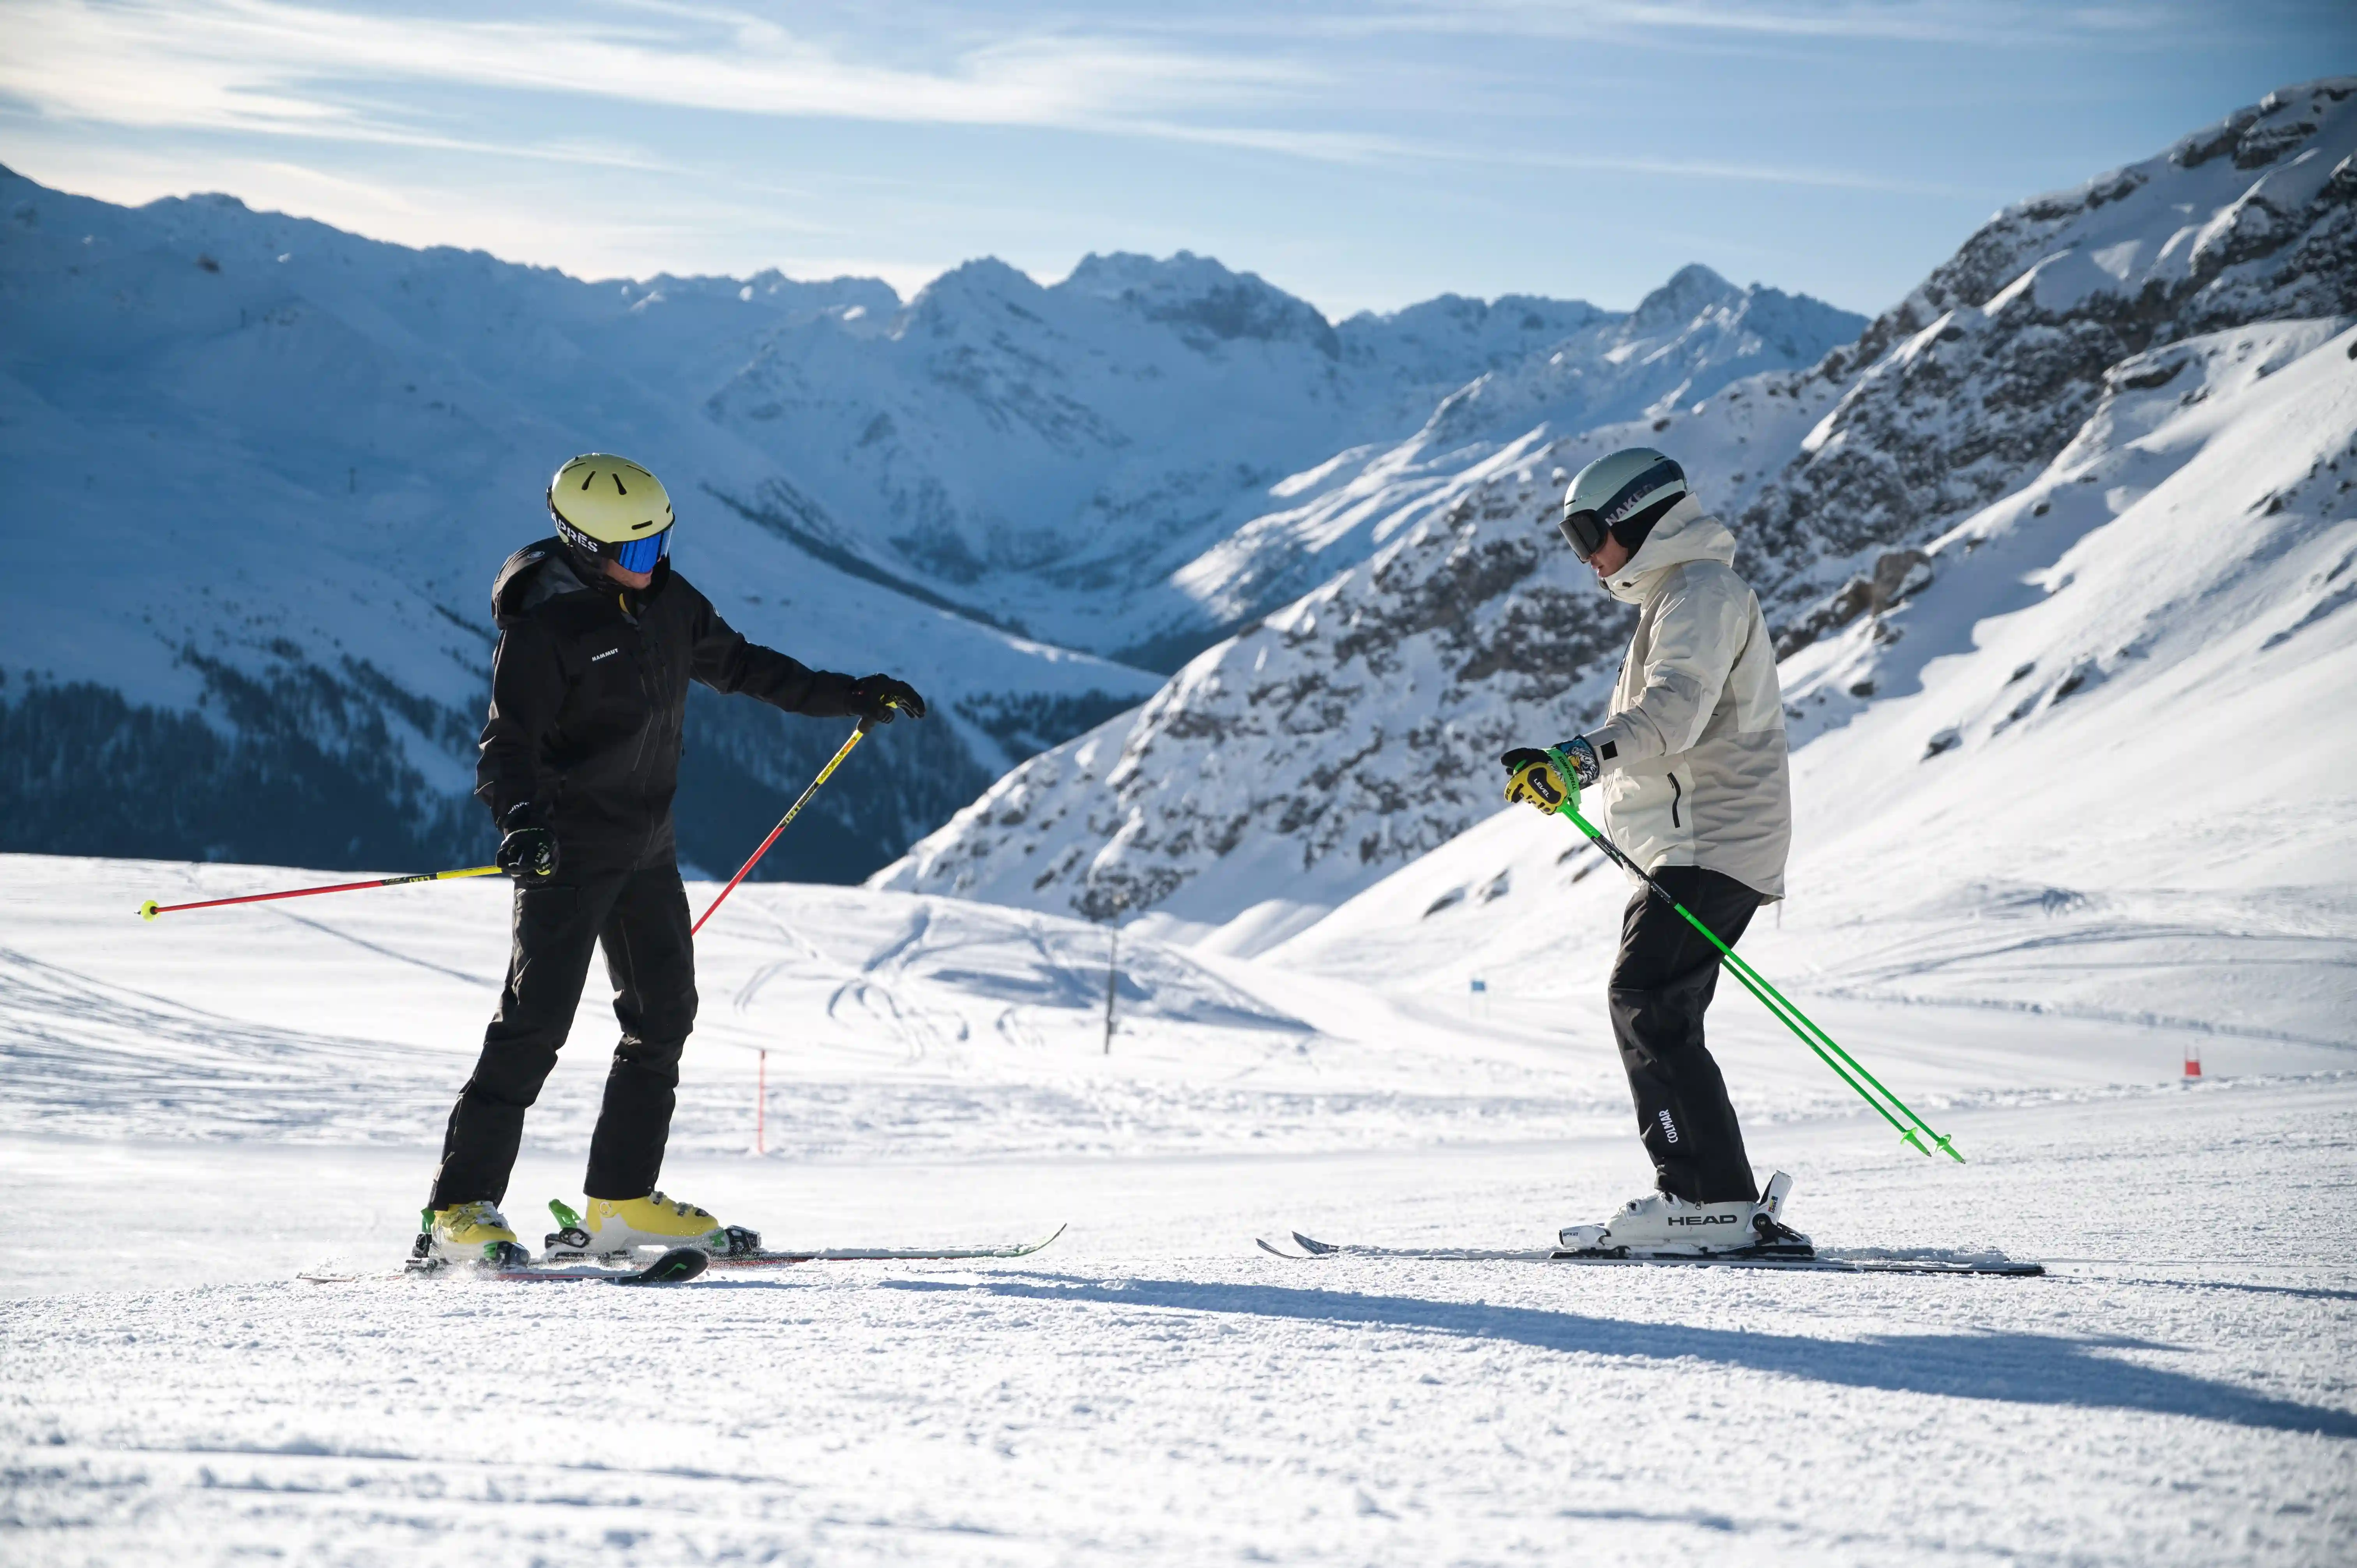skier: (143, 443, 1074, 1286), (1241, 444, 2046, 1272)
